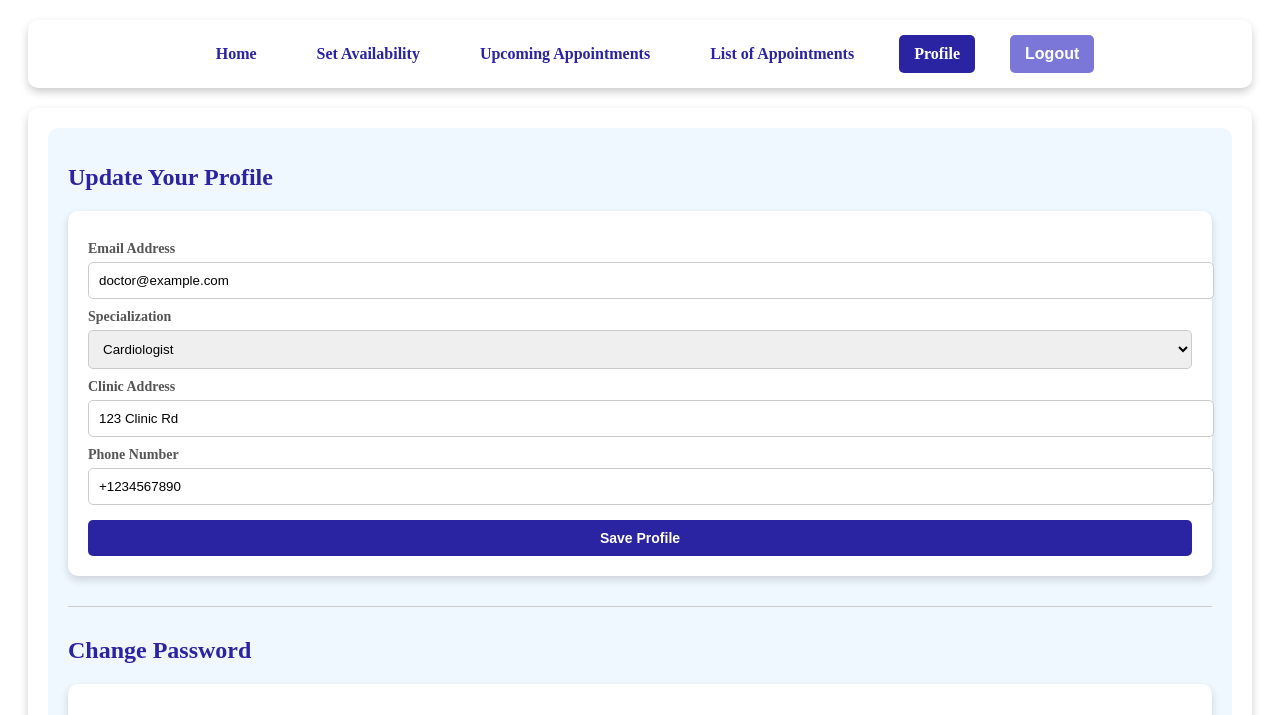
it: Doctor Profile Page › saves profile successfully when valid
Replace the text in the field with test id "clinic" with "New Clinic Address" at point(651, 419), box [88,400,1214,437]
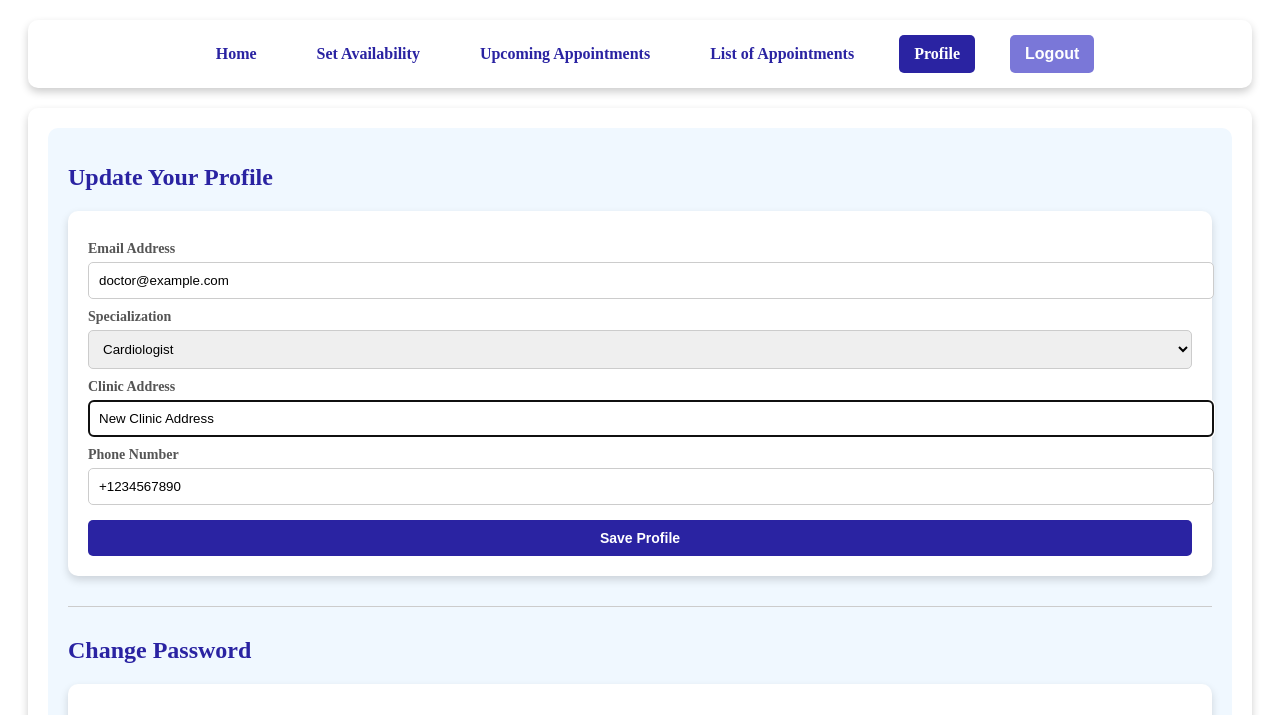
Replace the text in the field with test id "phone" with "+9876543210" at point(651, 487), box [88,468,1214,505]
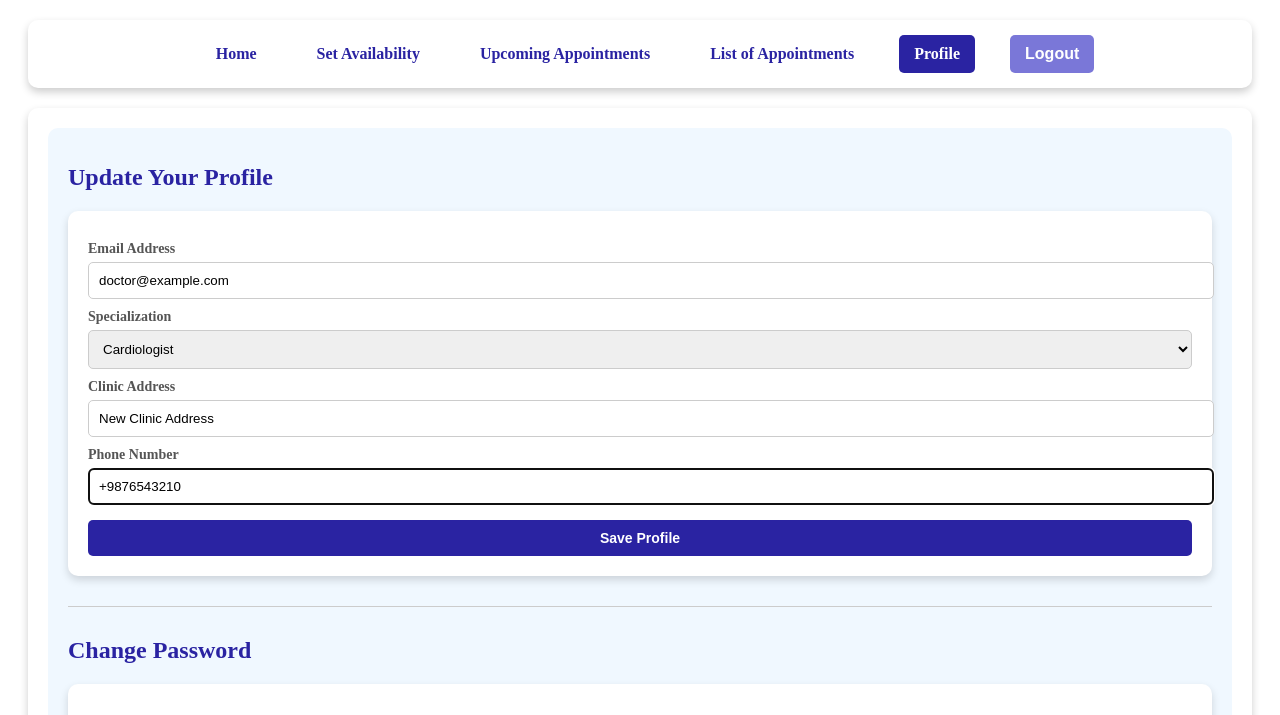
Expected: the dropdown with test id "specialization" shows "Cardiologist", [88,330,1192,369]
Click the button with test id "save-profile" at point(640, 538), box [88,520,1192,556]
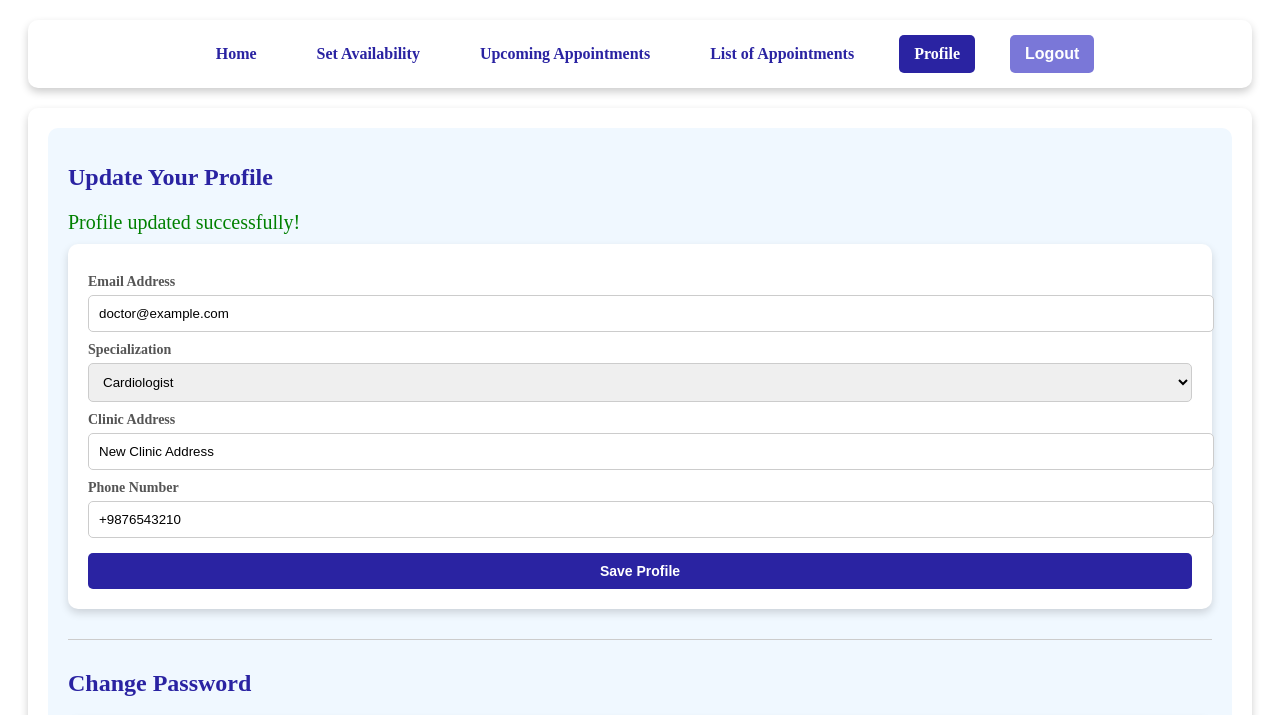
Now the text "Profile updated successfully!" is shown, box [68,211,300,233]
